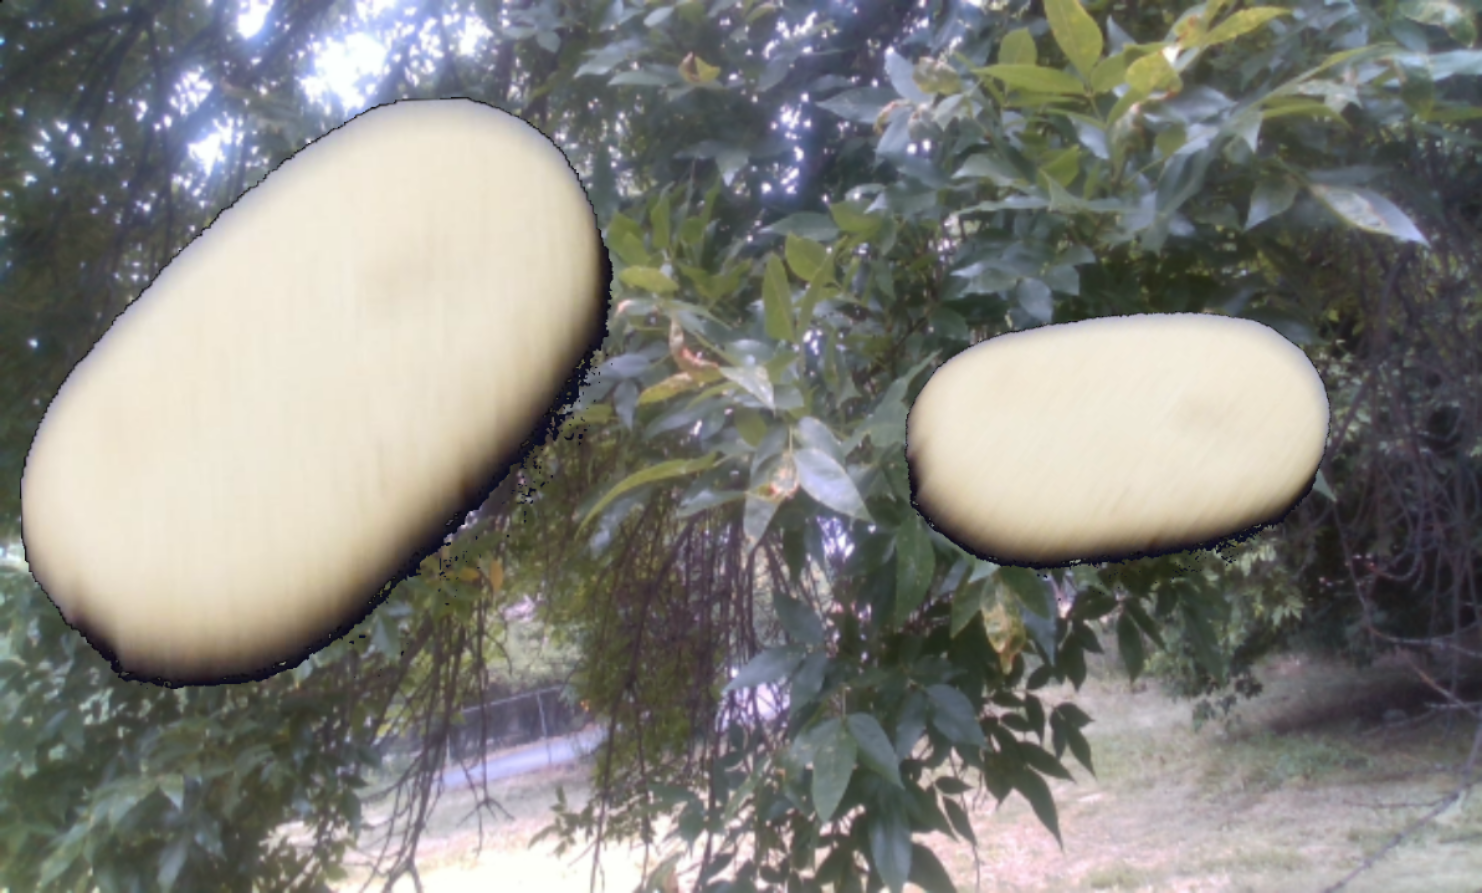test: (10, 94, 626, 694), (854, 178, 1379, 701)
